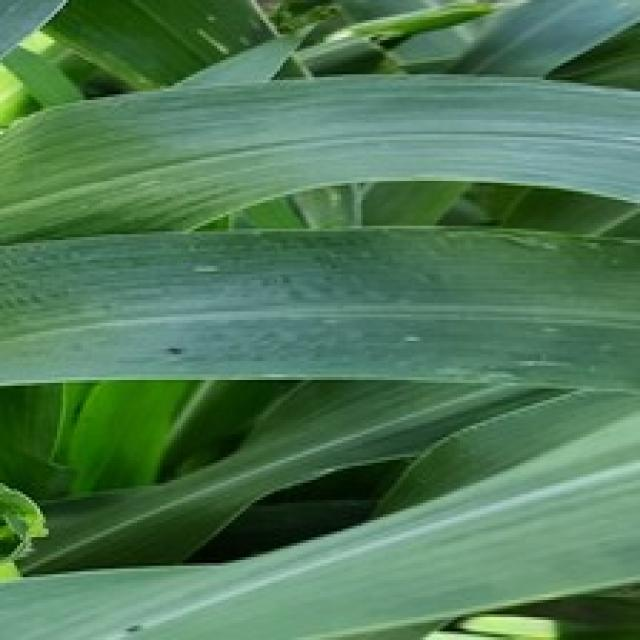Corn: (0, 0, 637, 637), (0, 377, 637, 637), (0, 68, 637, 248), (0, 220, 637, 394)
